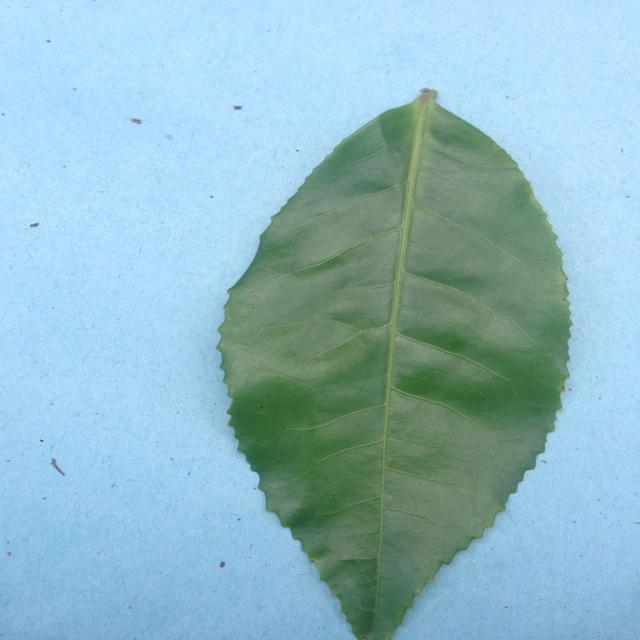Healthy: (190, 73, 606, 640)
